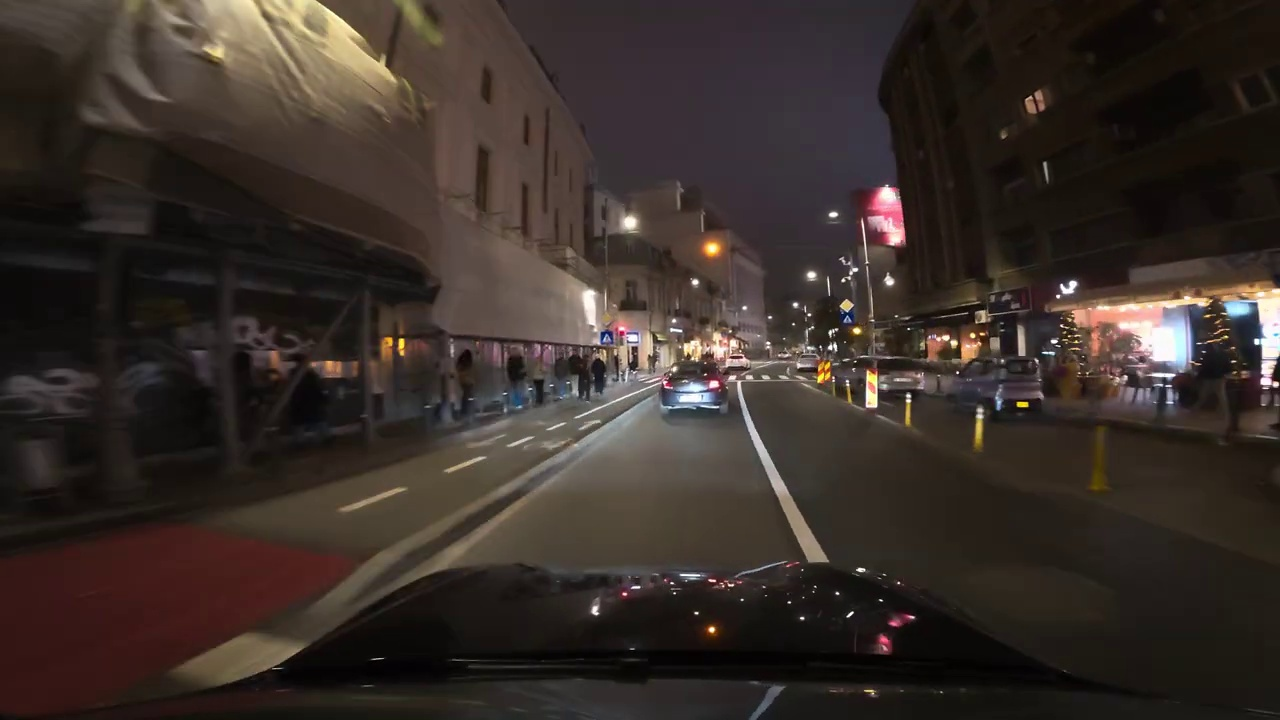acesa: (871, 186, 899, 212), (700, 236, 724, 261), (617, 211, 642, 235), (803, 267, 821, 285)
